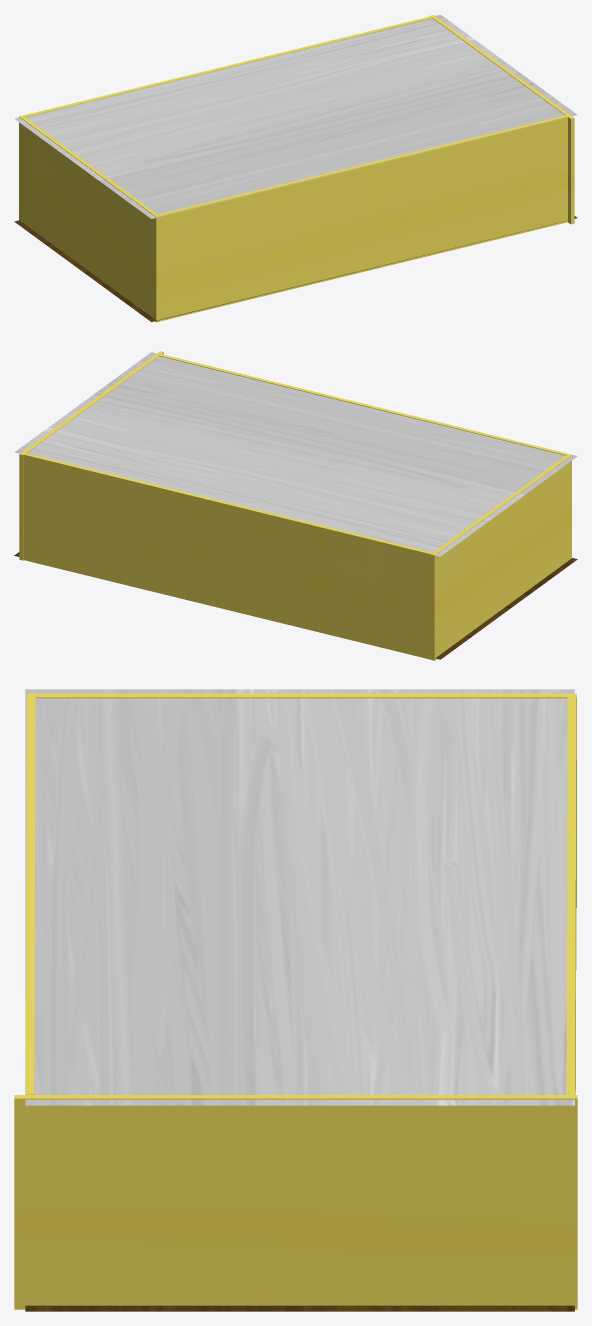
Rendered from resturant.gltf.
3 views of the same model, one above another, from view 1: azimuth 30°, elevation 25°; view 2: azimuth 150°, elevation 25°; view 3: azimuth 270°, elevation 25° (orthographic). The views are drawn at different scales.
Visible parts, largest first — view 1: Ceiling, East Wall, South Wall, North Wall, West Wall, Floor; view 2: Ceiling, West Wall, South Wall, East Wall, North Wall, Floor; view 3: Ceiling, North Wall, West Wall, Floor, East Wall, South Wall.
Part boxes in pixels (x1,y1,x2,y2): Ceiling: [14, 14, 577, 218]; East Wall: [158, 115, 567, 321]; South Wall: [19, 115, 159, 322]; North Wall: [430, 15, 574, 224]; West Wall: [23, 16, 432, 117]; Floor: [14, 216, 577, 321]; Ceiling: [14, 352, 577, 556]; West Wall: [23, 453, 432, 659]; South Wall: [431, 454, 571, 660]; East Wall: [159, 354, 567, 455]; North Wall: [19, 351, 163, 560]; Floor: [14, 552, 577, 659]; Ceiling: [25, 689, 574, 1105]; North Wall: [14, 1095, 577, 1309]; West Wall: [566, 697, 576, 1094]; Floor: [25, 1305, 574, 1311]; East Wall: [26, 697, 35, 1094]; South Wall: [27, 693, 576, 908].
Size of the model in its own units: 231 by 54.76 by 132.
Materials: 6 (6 with a texture image).
